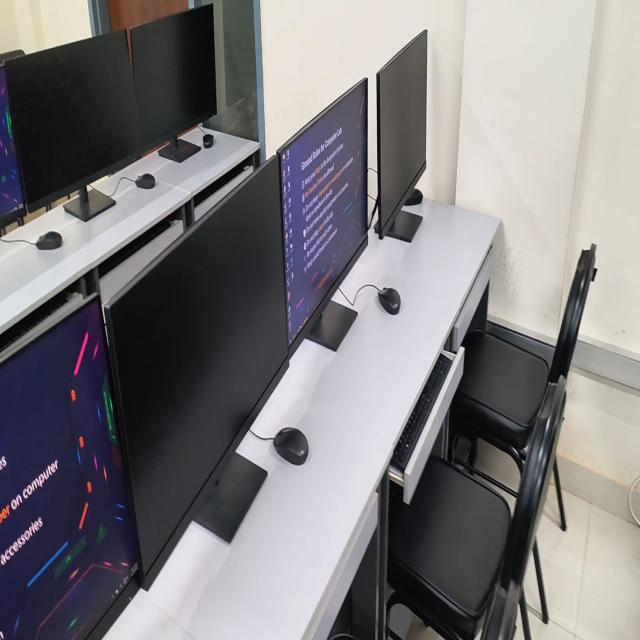Chair: (388, 380, 565, 639), (450, 244, 597, 473), (481, 584, 518, 639), (0, 49, 25, 66)
Keyboard: (390, 354, 452, 474), (0, 286, 79, 351)
Monitor: (105, 158, 288, 590), (0, 300, 139, 639), (0, 31, 145, 221), (280, 79, 367, 350), (131, 5, 216, 162), (374, 30, 427, 241), (0, 66, 27, 235)
Mouse: (273, 428, 309, 465), (378, 287, 400, 315), (35, 231, 62, 249), (405, 189, 423, 206), (135, 174, 155, 188), (203, 134, 214, 148)
